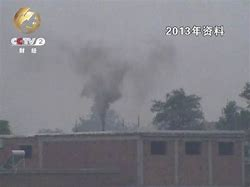smoke: (73, 37, 131, 126)
